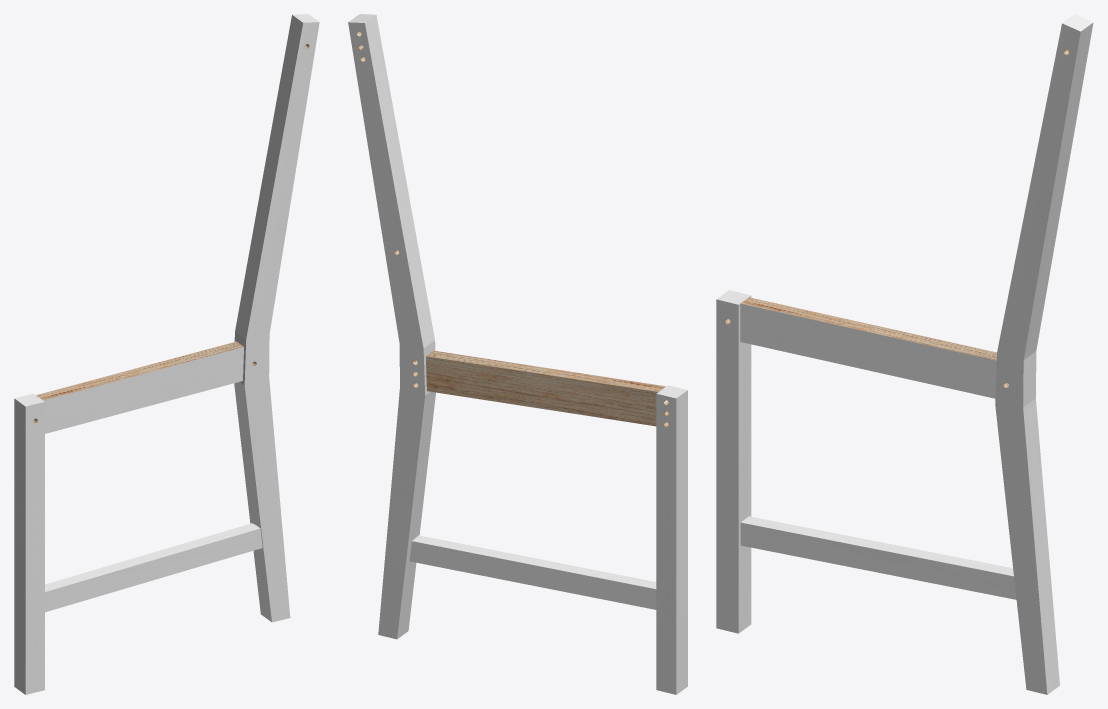
The model's file is ikea_stefan_side_left.obj.
3 renders of one model, left to right at view 1: azimuth 30°, elevation 25°; view 2: azimuth 150°, elevation 25°; view 3: azimuth 330°, elevation 25°, orthographic. The views are drawn at different scales.
Parts seen in each view (by area): view 1: Ikea_Stefan_Side_Left.001; view 2: Ikea_Stefan_Side_Left.001; view 3: Ikea_Stefan_Side_Left.001.
Boxes of the visible parts, box(x1,y1,x2,y2) form: Ikea_Stefan_Side_Left.001: box(14, 14, 319, 694); Ikea_Stefan_Side_Left.001: box(348, 14, 687, 694); Ikea_Stefan_Side_Left.001: box(716, 14, 1093, 694).
Bounding box in the file's own units: 0.4853 × 0.895 × 0.0653.
Materials: 1 (1 with a texture image).
